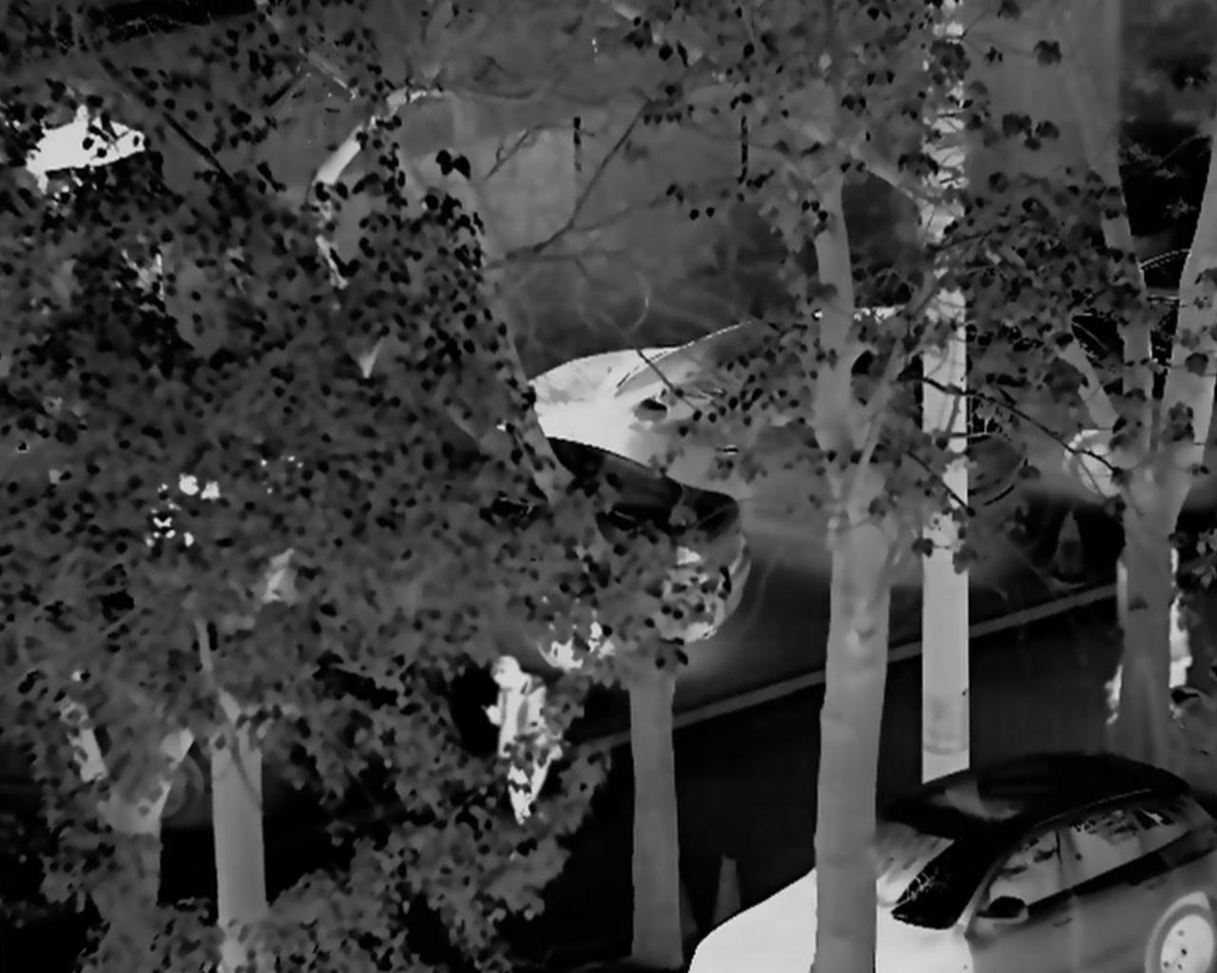person: (1110, 510, 1199, 715), (489, 653, 566, 845)
